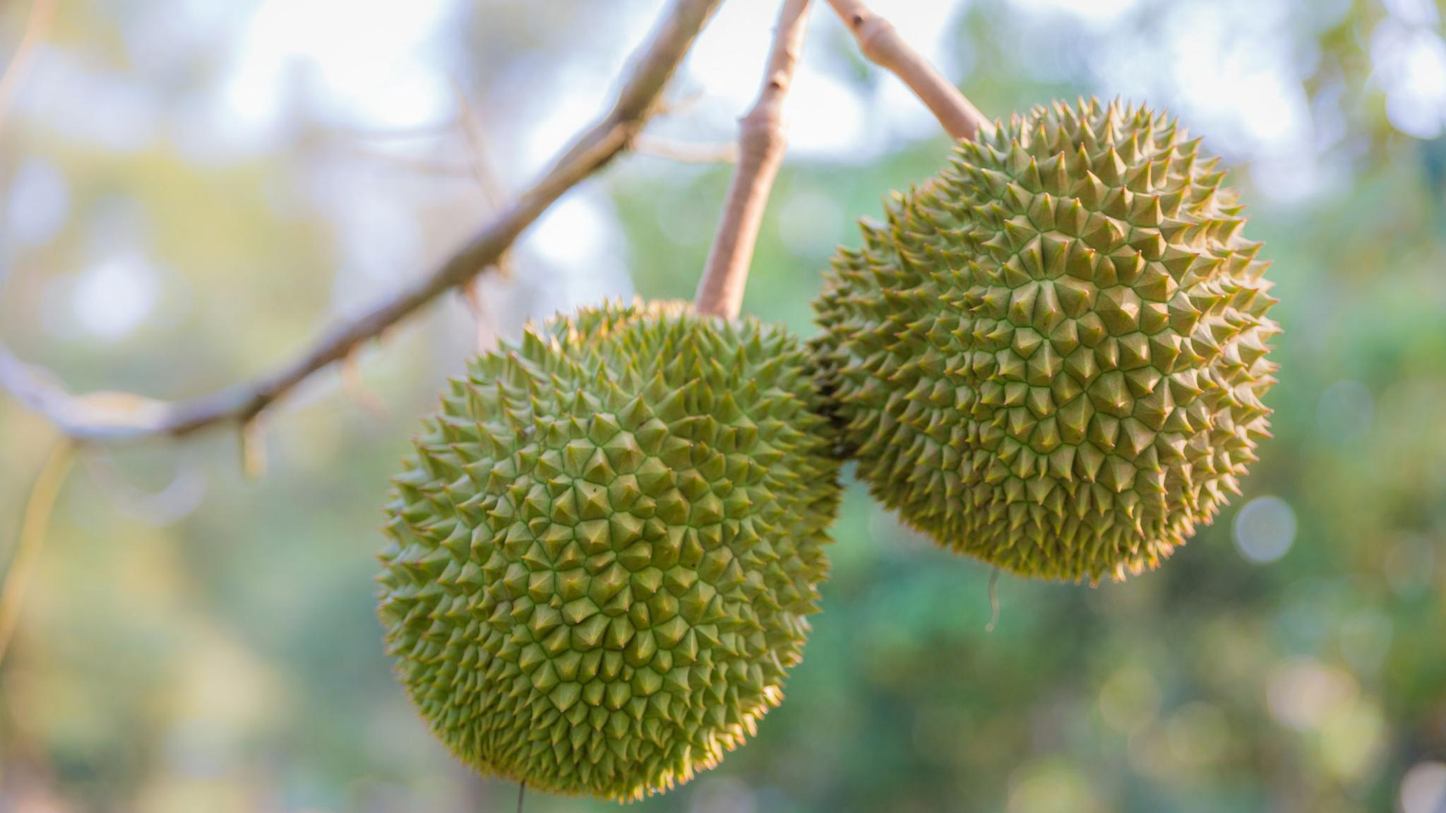sau_rieng: (380, 296, 842, 798), (824, 100, 1285, 589)
